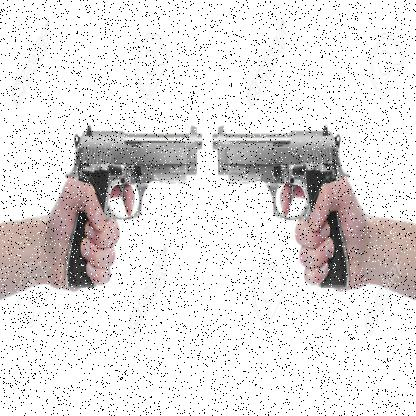pistol: (68, 117, 201, 306), (212, 129, 354, 290)
